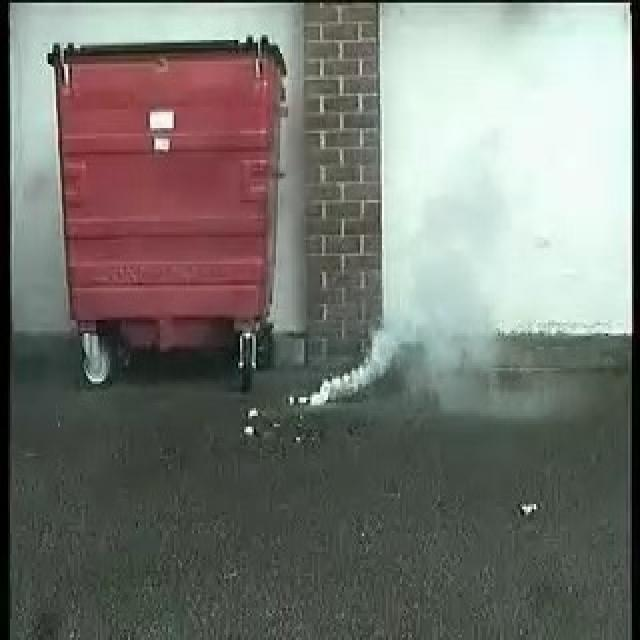smoke: (310, 243, 454, 409)
